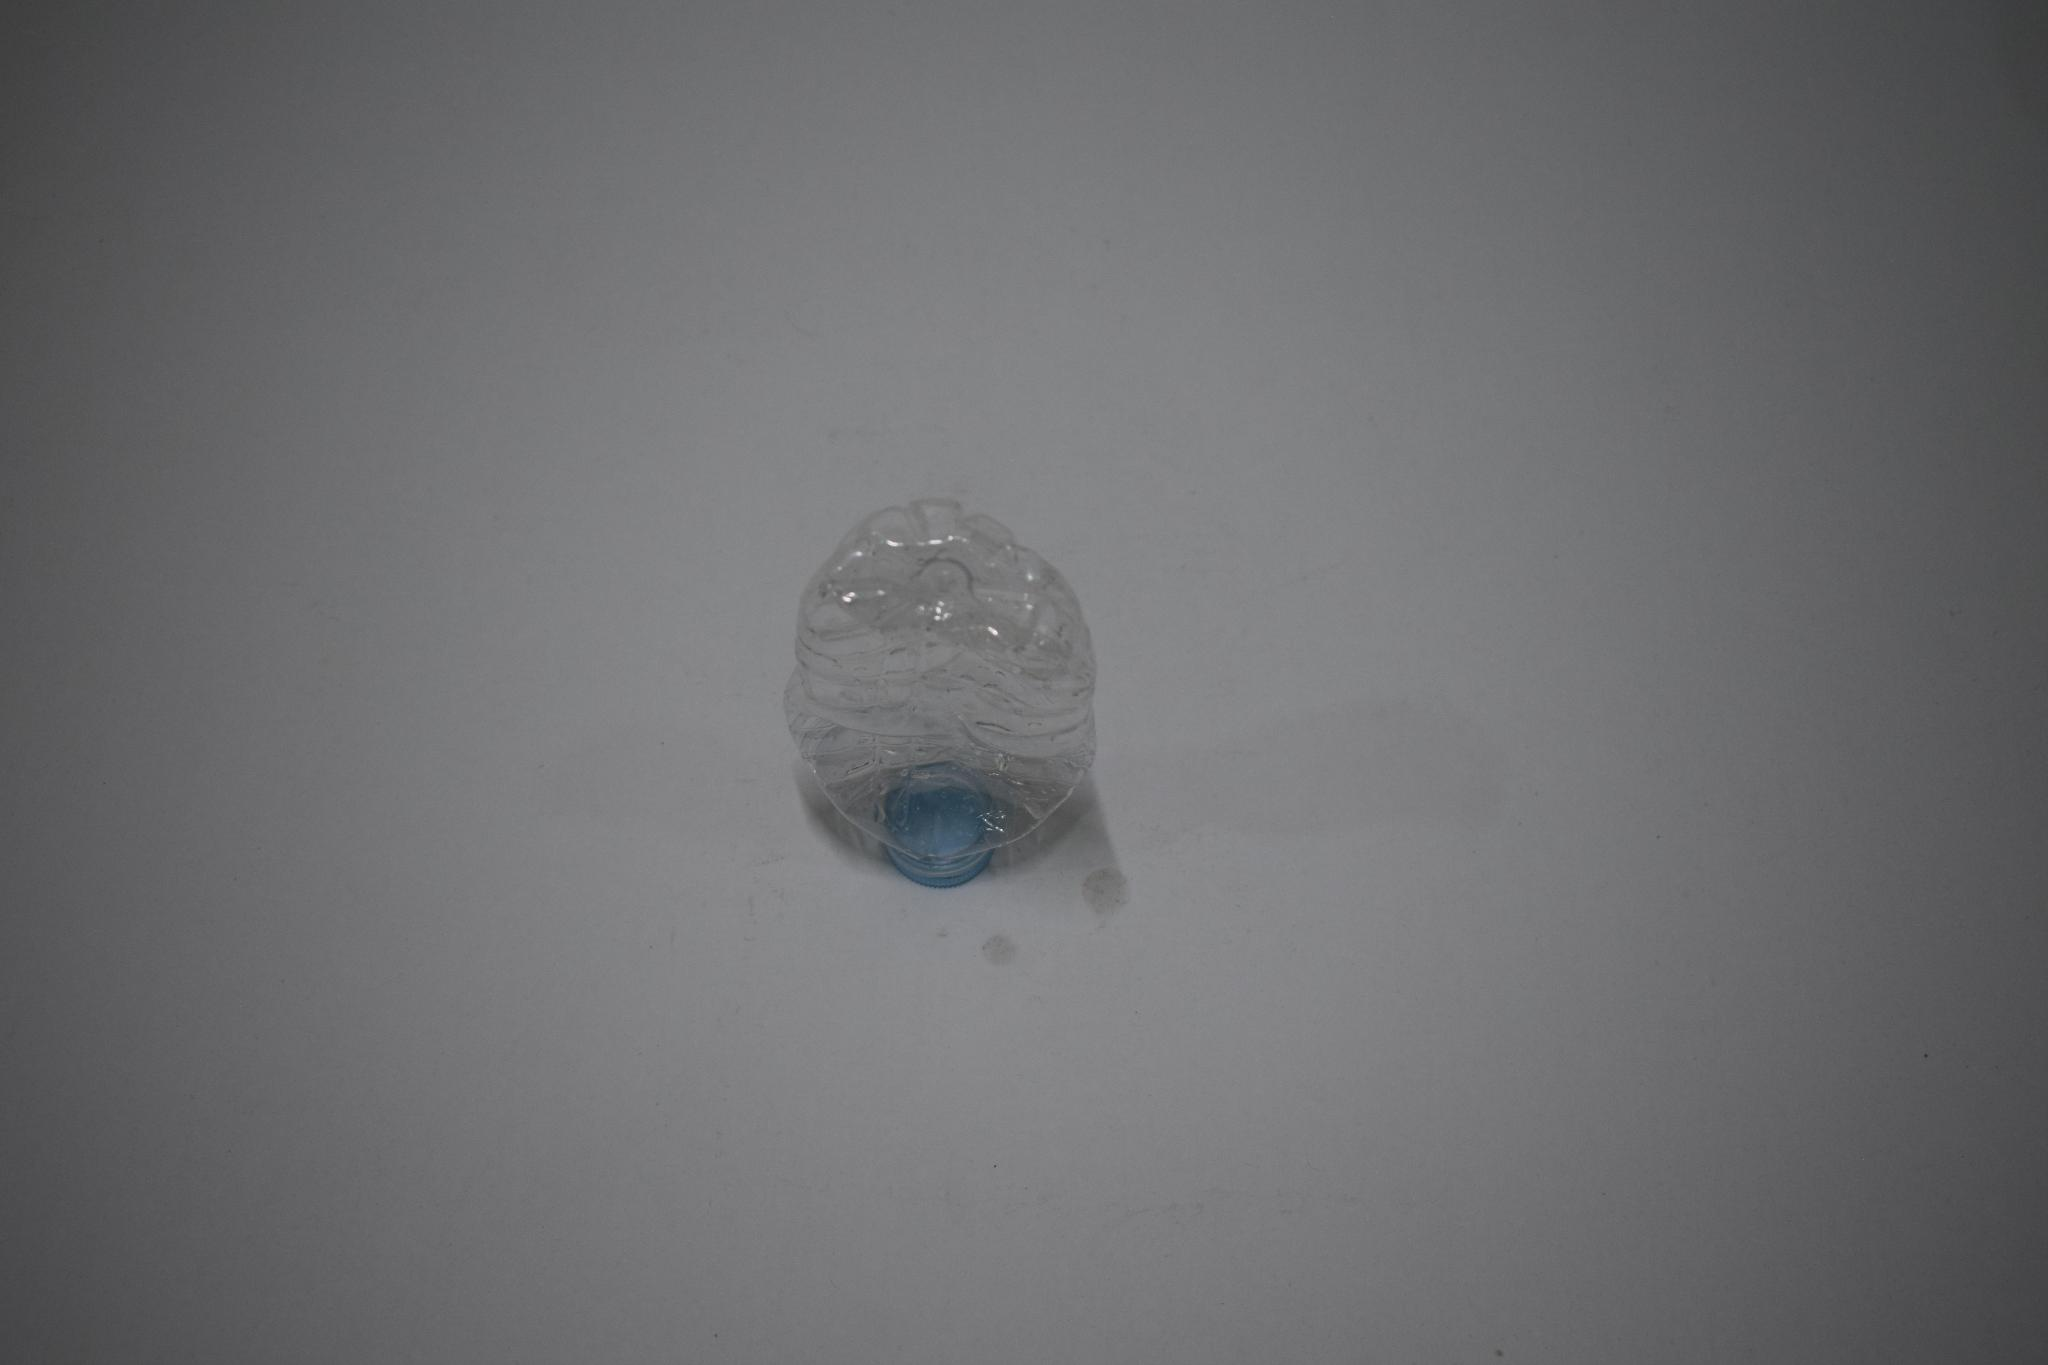bottle: (774, 472, 1138, 890)
